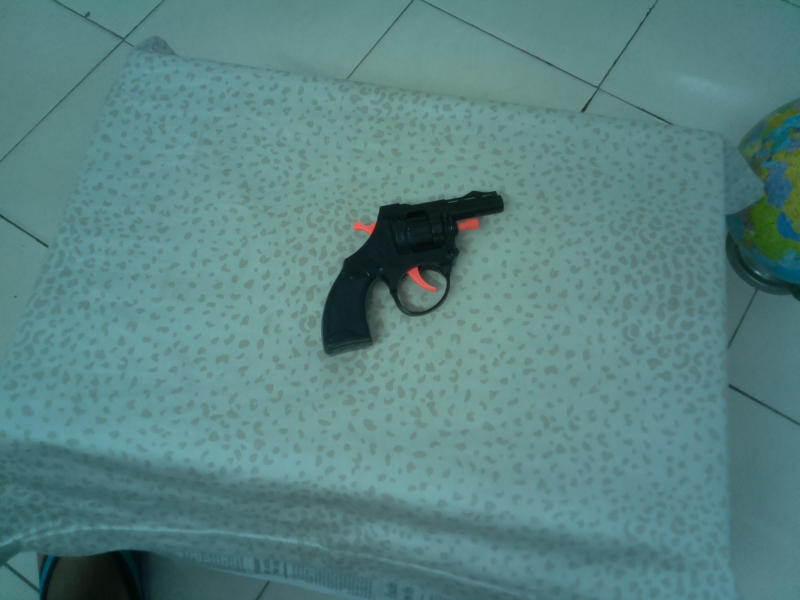Gun: (318, 187, 509, 358)
